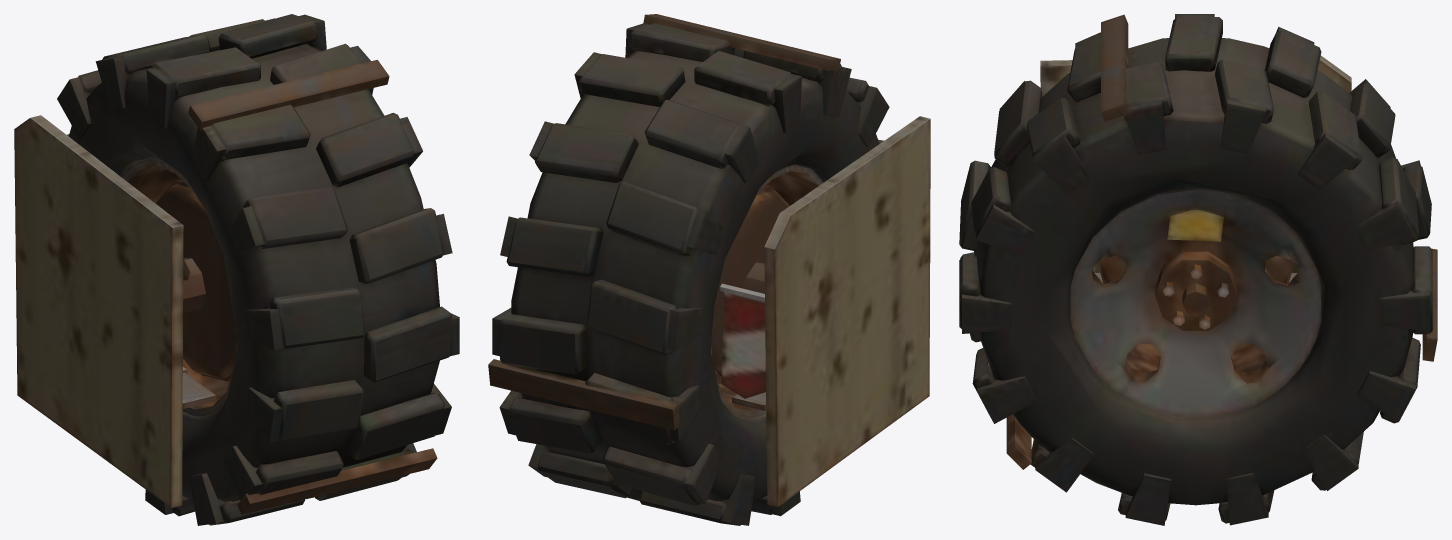
The model's file is R4M_WheelM_Side_Offroad_LOD1.glb.
3 renders of one model, left to right at view 1: azimuth 30°, elevation 25°; view 2: azimuth 150°, elevation 25°; view 3: azimuth 270°, elevation 25°, orthographic.
Visible parts, largest first — view 1: R4M_WheelM_Side_Offroad_LOD1; view 2: R4M_WheelM_Side_Offroad_LOD1; view 3: R4M_WheelM_Side_Offroad_LOD1.
Part boxes in pixels (bbox=[...]): R4M_WheelM_Side_Offroad_LOD1: bbox=[14, 14, 459, 525]; R4M_WheelM_Side_Offroad_LOD1: bbox=[488, 14, 930, 525]; R4M_WheelM_Side_Offroad_LOD1: bbox=[959, 14, 1437, 525].
Bounding box in the file's own units: 0.452 × 0.7603 × 0.7682.
5 materials, 5 textured.
